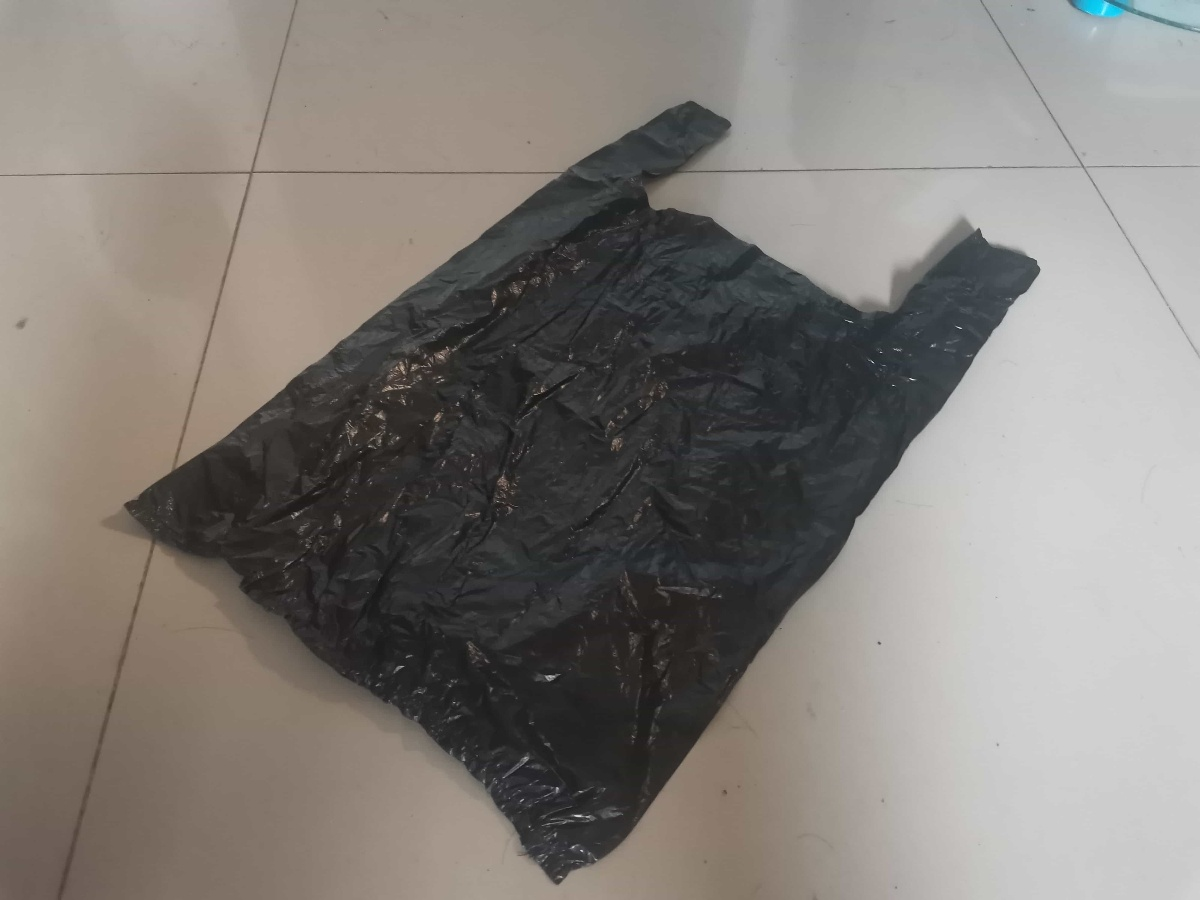plastic bag: (118, 92, 1049, 886)
